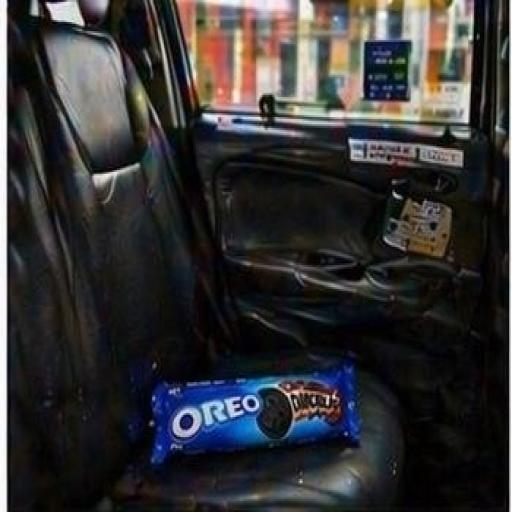oreo: (107, 313, 386, 505)
